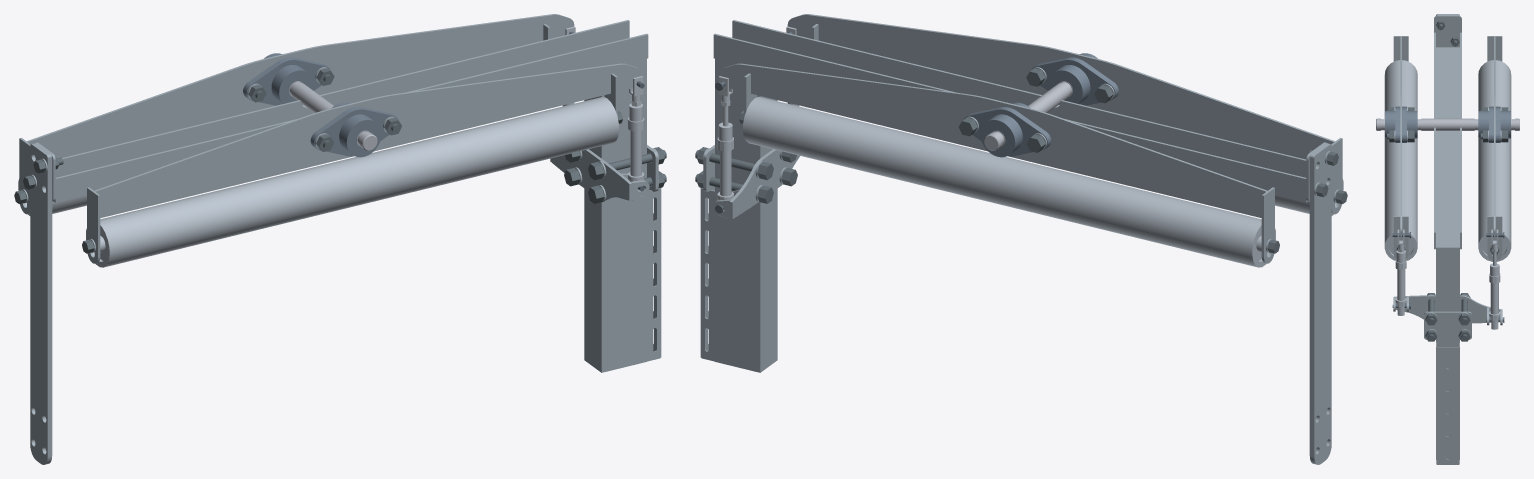
The model's file is alignment.min.glb.
The picture shows the model from 3 angles, left to right: view 1: azimuth 30°, elevation 25°; view 2: azimuth 150°, elevation 25°; view 3: azimuth 270°, elevation 25°; orthographic projection. The views are drawn at different scales.
Parts seen in each view (by area): view 1: roller_body_674-2, lever_plate-2, lever_plate-1, channel_784-1, tube_60x40x2_385-1, frame_bracket-1, tray_L215-1, bearing_SFL204SS_simplified-3, bearing_SFL204SS_simplified-1, cylinder_bracket_181-1, pneumatic_cylinder_retracted-1, pivot_shaft_238_2-1 (+2 smaller); view 2: roller_body_674-1, lever_plate-1, lever_plate-2, channel_784-1, tube_60x40x2_385-1, frame_bracket-1, tray_L215-1, bearing_SFL204SS_simplified-2, bearing_SFL204SS_simplified-4, cylinder_bracket_181-1, pneumatic_cylinder_extended-1, pivot_shaft_238_2-1 (+2 smaller); view 3: channel_784-1, roller_body_674-1, roller_body_674-2, tray_L215-1, tube_60x40x2_385-1, cylinder_bracket_181-1, pivot_shaft_238_2-1, counter_plate-1, pneumatic_cylinder_extended-1, pneumatic_cylinder_retracted-1, channel_end_flange-1, lever_rib_right-1 (+9 smaller).
Part boxes in pixels (box(x1,y1,x2,y2)): roller_body_674-2: box(86, 96, 618, 267); lever_plate-2: box(94, 63, 641, 217); lever_plate-1: box(27, 14, 574, 158); channel_784-1: box(54, 20, 648, 202); tube_60x40x2_385-1: box(584, 58, 646, 372); frame_bracket-1: box(30, 143, 52, 464); tray_L215-1: box(647, 188, 661, 361); bearing_SFL204SS_simplified-3: box(310, 107, 398, 157); bearing_SFL204SS_simplified-1: box(243, 57, 330, 105); cylinder_bracket_181-1: box(550, 149, 649, 200); pneumatic_cylinder_retracted-1: box(628, 76, 644, 197); pivot_shaft_238_2-1: box(289, 81, 377, 150); roller_body_674-1: box(743, 96, 1275, 267); lever_plate-1: box(720, 63, 1267, 217); lever_plate-2: box(787, 14, 1334, 159); channel_784-1: box(713, 20, 1307, 202); tube_60x40x2_385-1: box(715, 58, 777, 372); frame_bracket-1: box(1309, 143, 1331, 464); tray_L215-1: box(700, 187, 714, 361); bearing_SFL204SS_simplified-2: box(963, 107, 1051, 157); bearing_SFL204SS_simplified-4: box(1031, 57, 1118, 105); cylinder_bracket_181-1: box(712, 149, 799, 219); pneumatic_cylinder_extended-1: box(717, 76, 733, 218); pivot_shaft_238_2-1: box(984, 81, 1072, 150); channel_784-1: box(1434, 32, 1461, 249); roller_body_674-1: box(1478, 60, 1511, 261); roller_body_674-2: box(1384, 60, 1417, 260); tray_L215-1: box(1436, 342, 1459, 464); tube_60x40x2_385-1: box(1436, 249, 1459, 459); cylinder_bracket_181-1: box(1393, 295, 1502, 325); pivot_shaft_238_2-1: box(1376, 118, 1519, 130); counter_plate-1: box(1424, 311, 1471, 339); pneumatic_cylinder_extended-1: box(1489, 229, 1500, 329); pneumatic_cylinder_retracted-1: box(1395, 229, 1406, 315); channel_end_flange-1: box(1434, 15, 1461, 47); lever_rib_right-1: box(1487, 216, 1502, 260).
Size of the model in its own units: 0.8228 by 0.448 by 0.2382.
